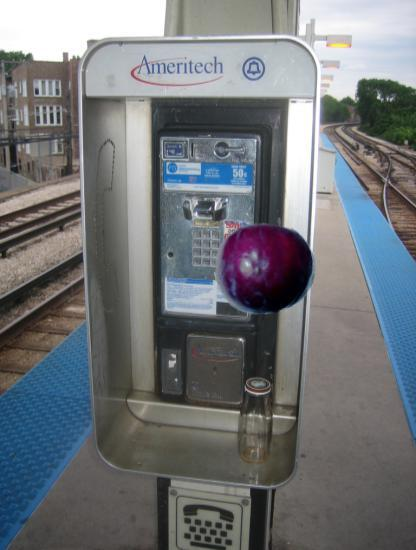Plum: (214, 217, 317, 320)
